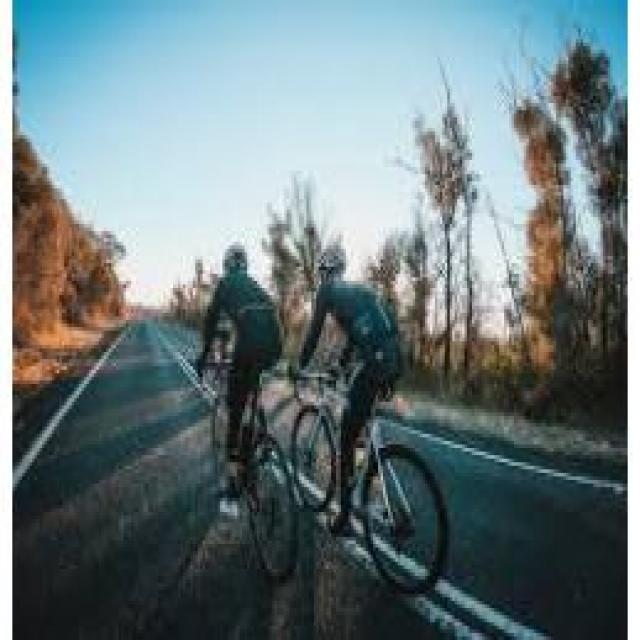bicycle: (290, 350, 453, 592), (214, 353, 300, 581)
